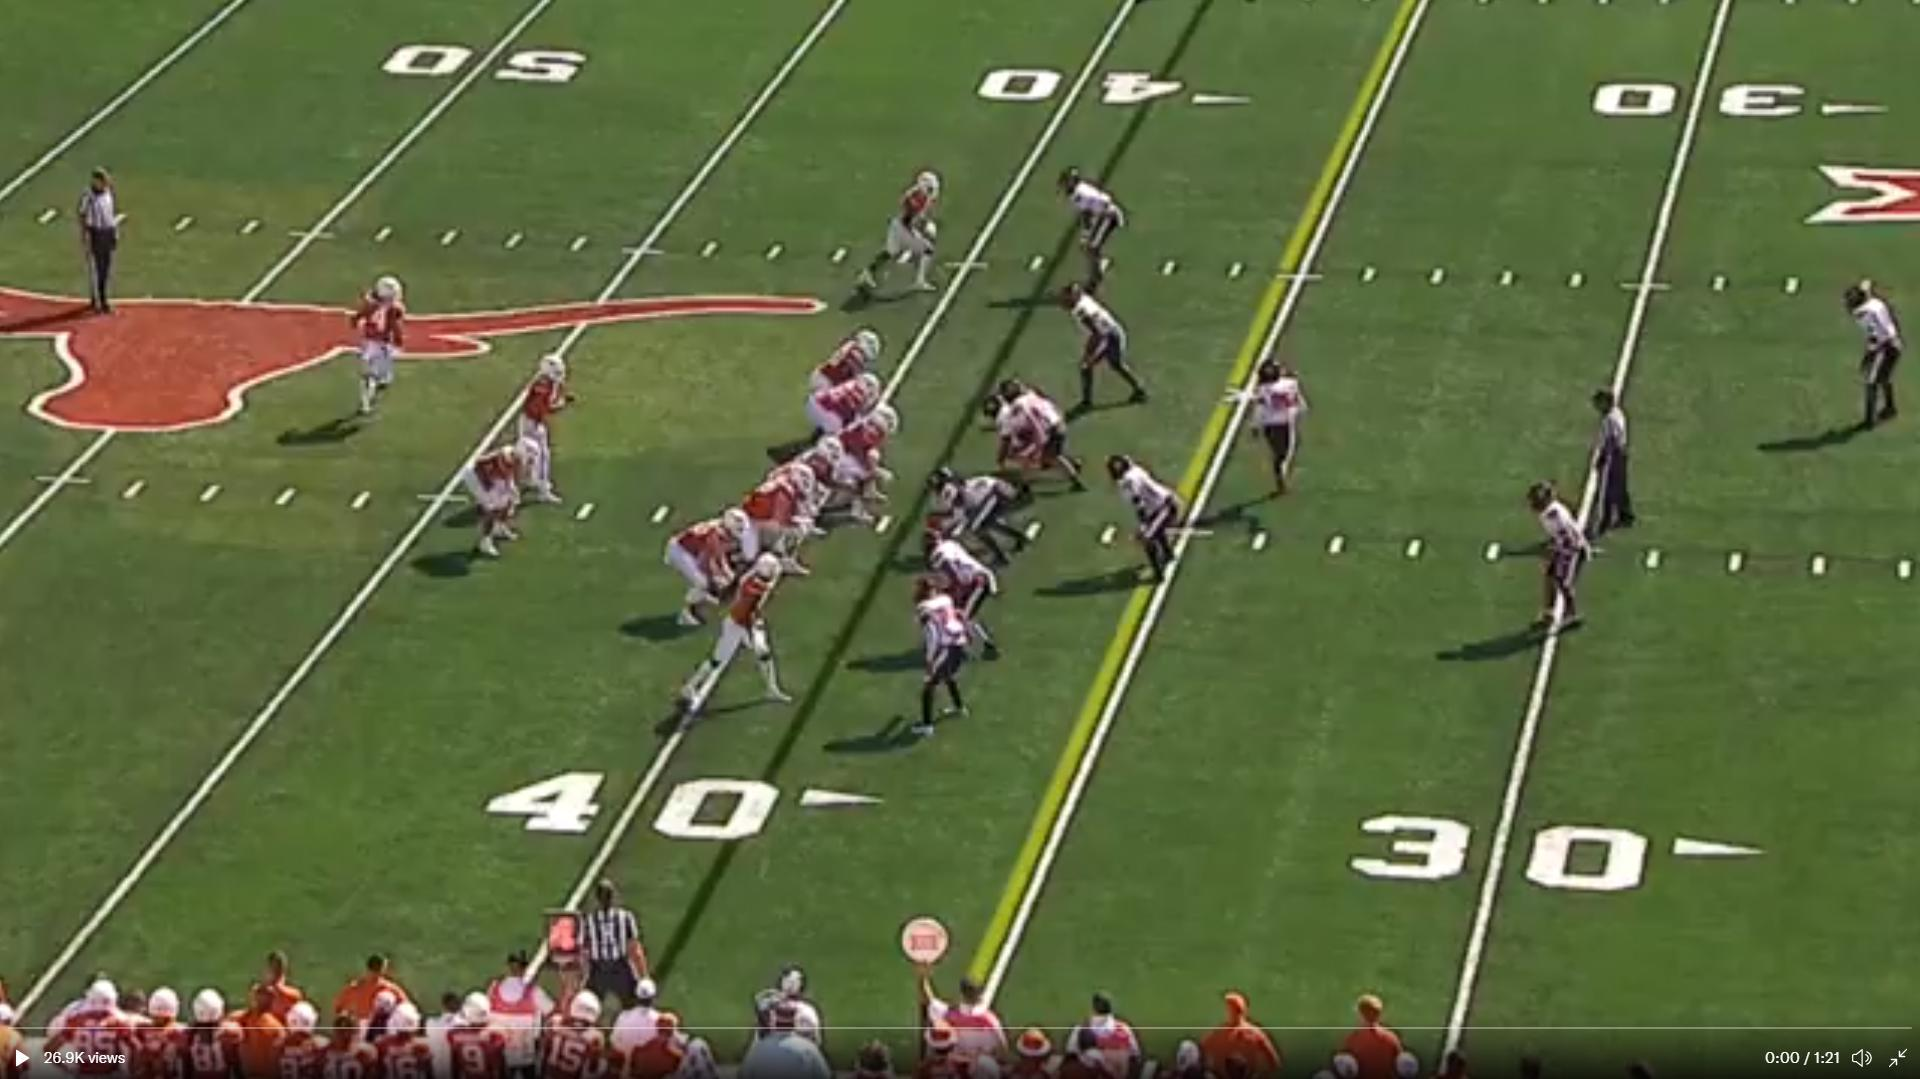defense: (1058, 284, 1151, 425), (996, 383, 1092, 509), (1237, 352, 1312, 513), (1520, 476, 1592, 645), (931, 517, 1010, 665), (928, 463, 1043, 563), (911, 579, 978, 744), (1846, 278, 1913, 439), (1113, 454, 1189, 592), (980, 388, 1089, 478), (1054, 168, 1122, 293)
oline: (731, 454, 822, 582), (823, 400, 903, 534), (796, 433, 878, 538), (808, 368, 886, 450), (807, 326, 885, 396)
qb: (508, 344, 585, 513)
ref: (587, 873, 658, 1010), (70, 164, 128, 331), (1589, 380, 1648, 543)
skill: (673, 550, 786, 732), (851, 161, 952, 301), (663, 501, 746, 632), (465, 419, 531, 561), (352, 268, 410, 409)
